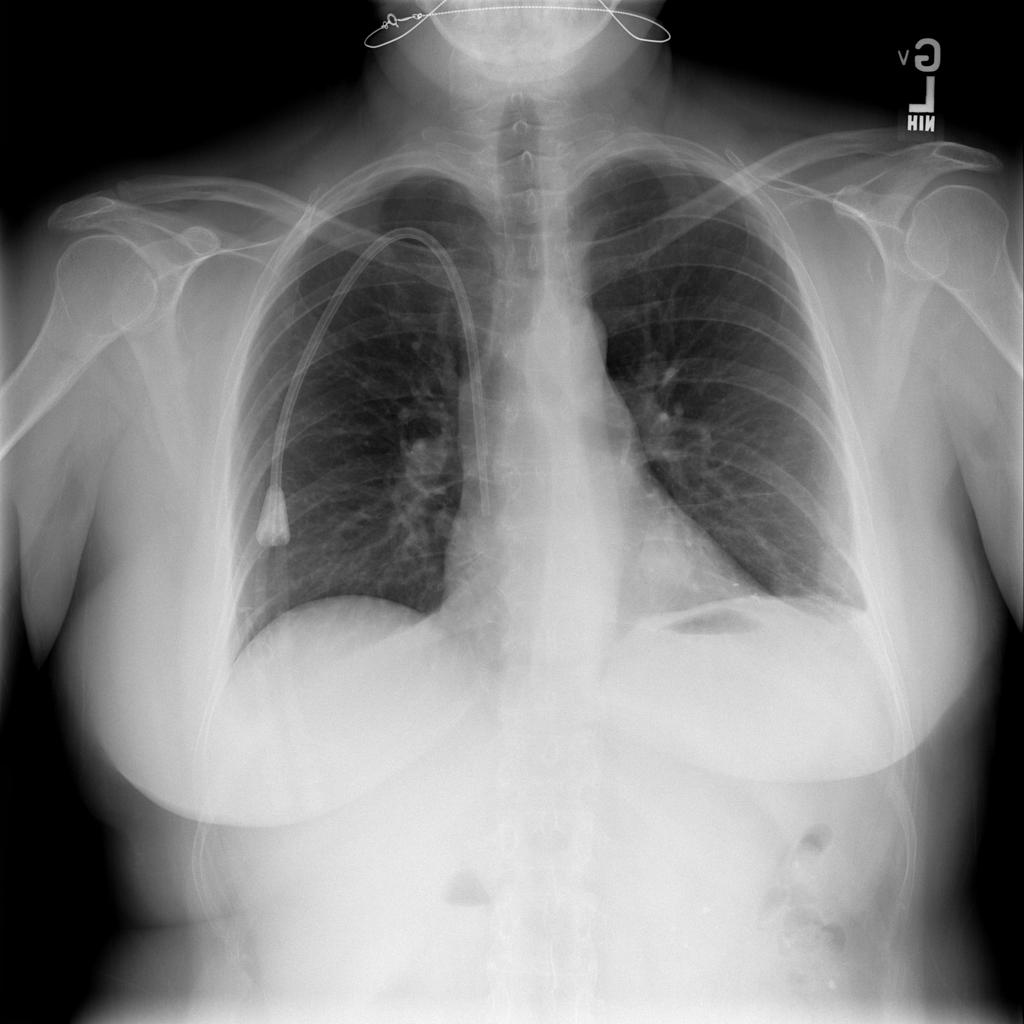nodule: (624, 526, 705, 603), (241, 475, 307, 555)
